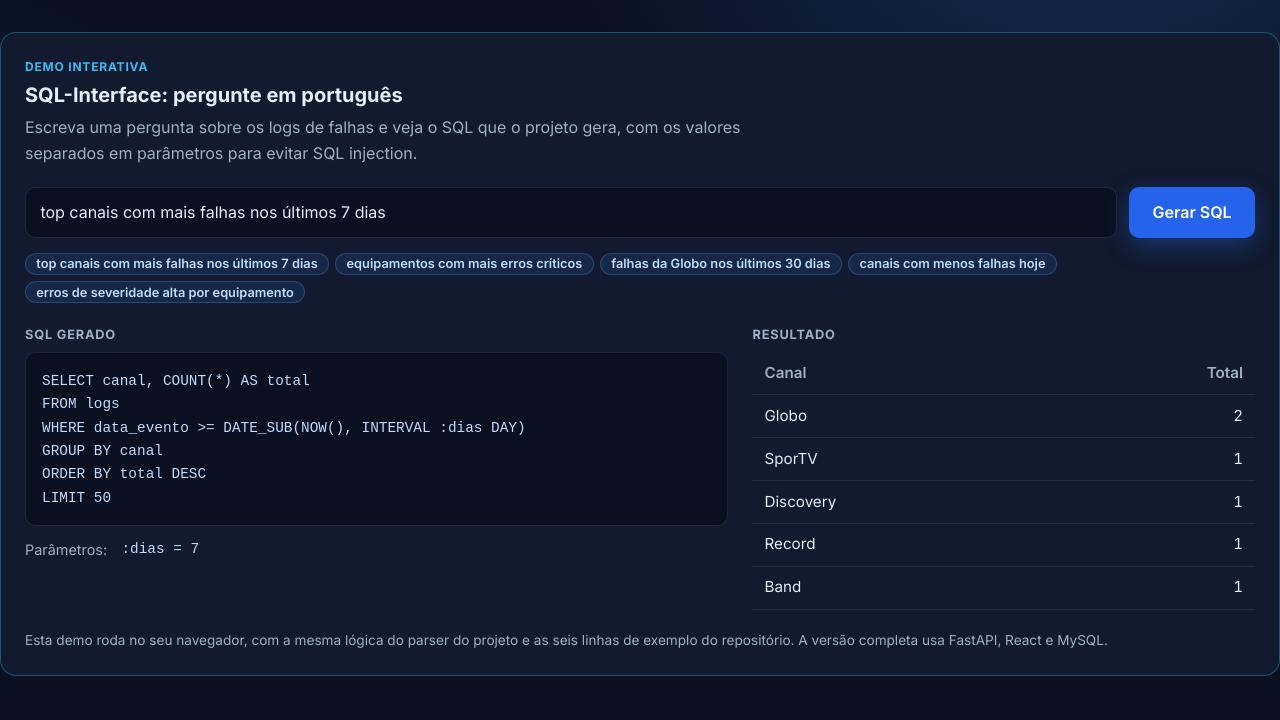
SqlDemo › um exemplo preenche a pergunta e responde na hora
Click the button "equipamentos com mais erros críticos". click: (464, 264)
box: [335,252,594,275]
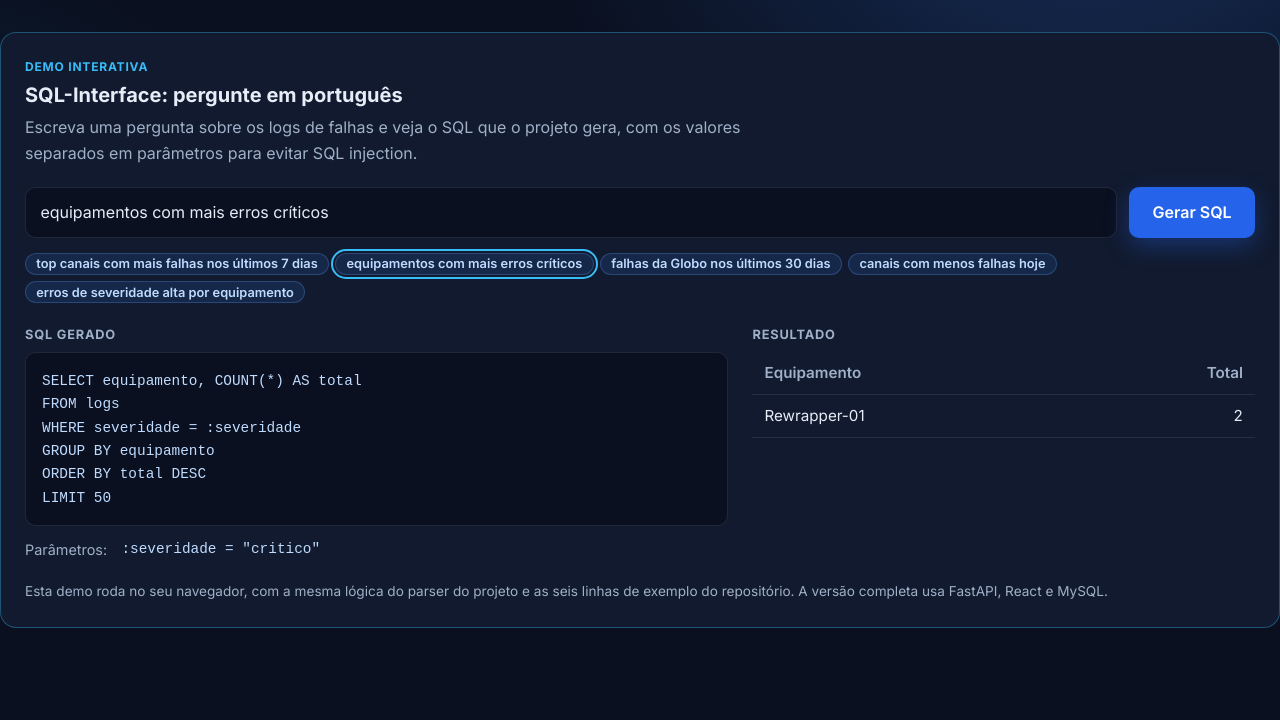
Now the field named "Pergunta em português" holds "equipamentos com mais erros críticos", box [25,187,1117,238]
Now the text "severidade = :severidade" is shown, box [42,373,362,506]
